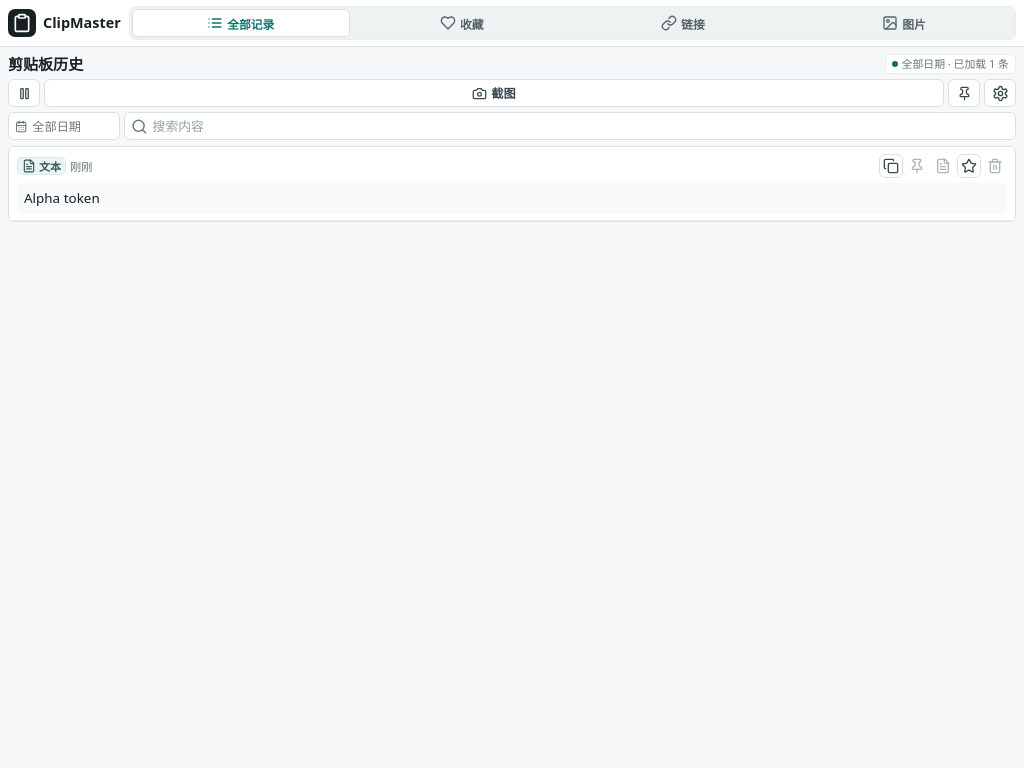
App UI › shows toast errors when favorite or pinned actions fail
Expected: the button "Alpha token" is shown, [17, 183, 1007, 213]
Click the button named "收藏 Alpha token" at (969, 166), box [957, 154, 981, 178]
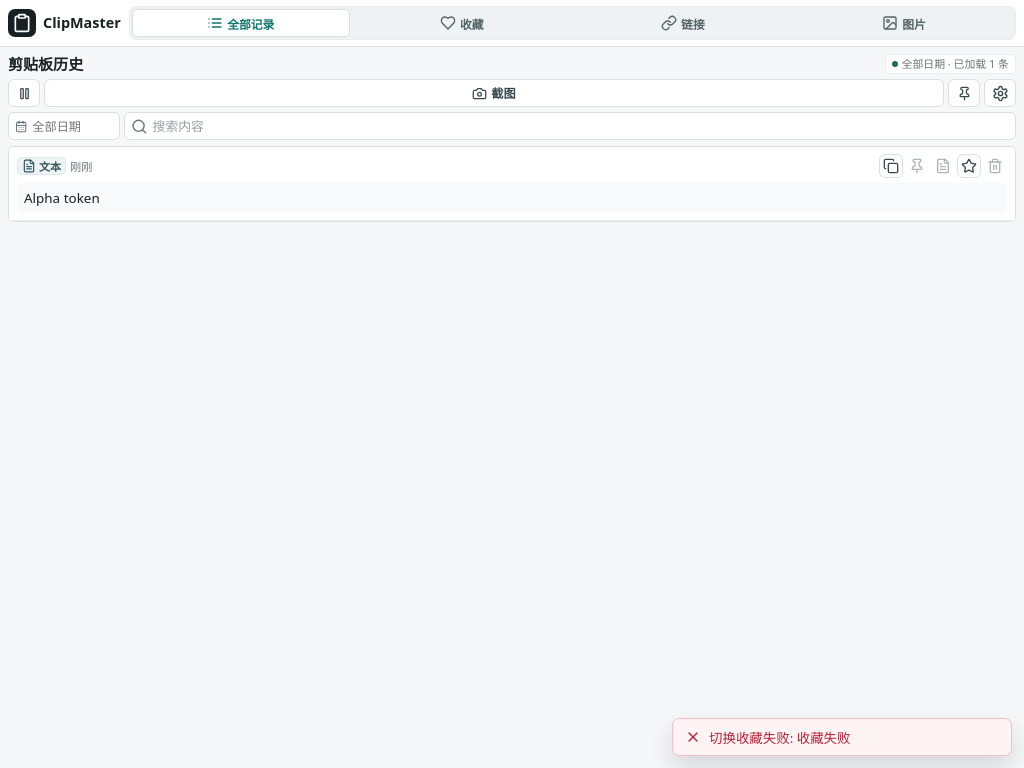
Expected: the message reads "切换收藏失败: 收藏失败", [709, 729, 850, 747]
Click the button named "置顶 Alpha token" at (917, 166), box [905, 154, 929, 178]
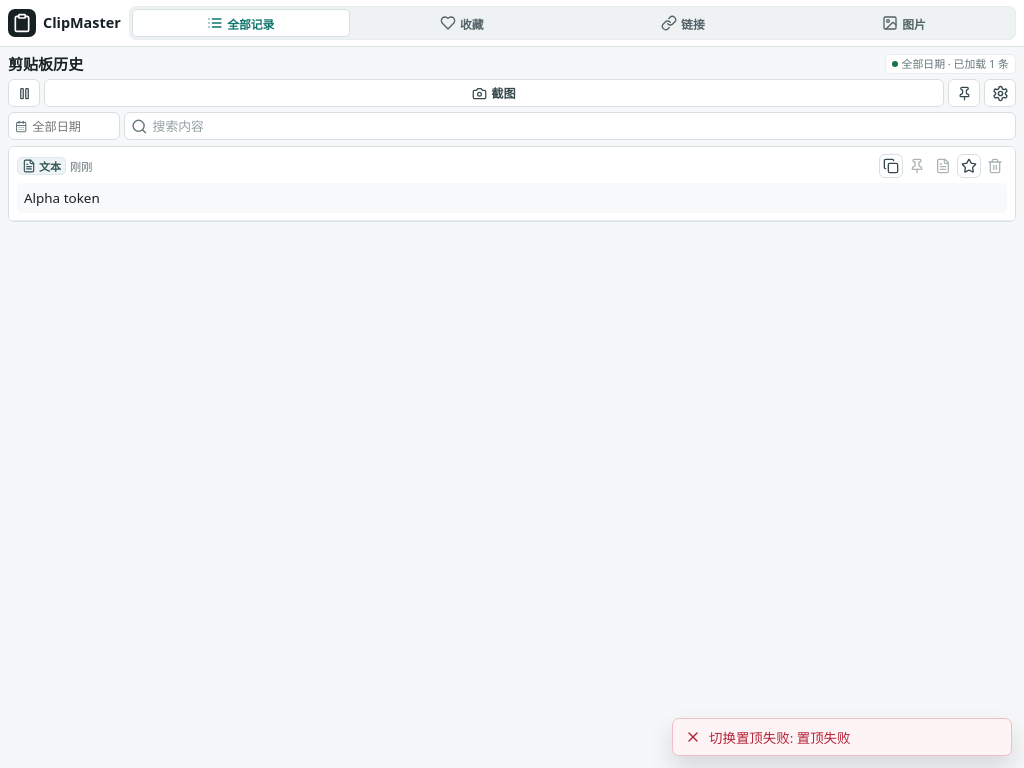
Expected: the button "Alpha token" is shown, [17, 183, 1007, 213]
Expected: the message reads "切换置顶失败: 置顶失败", [709, 729, 850, 747]
